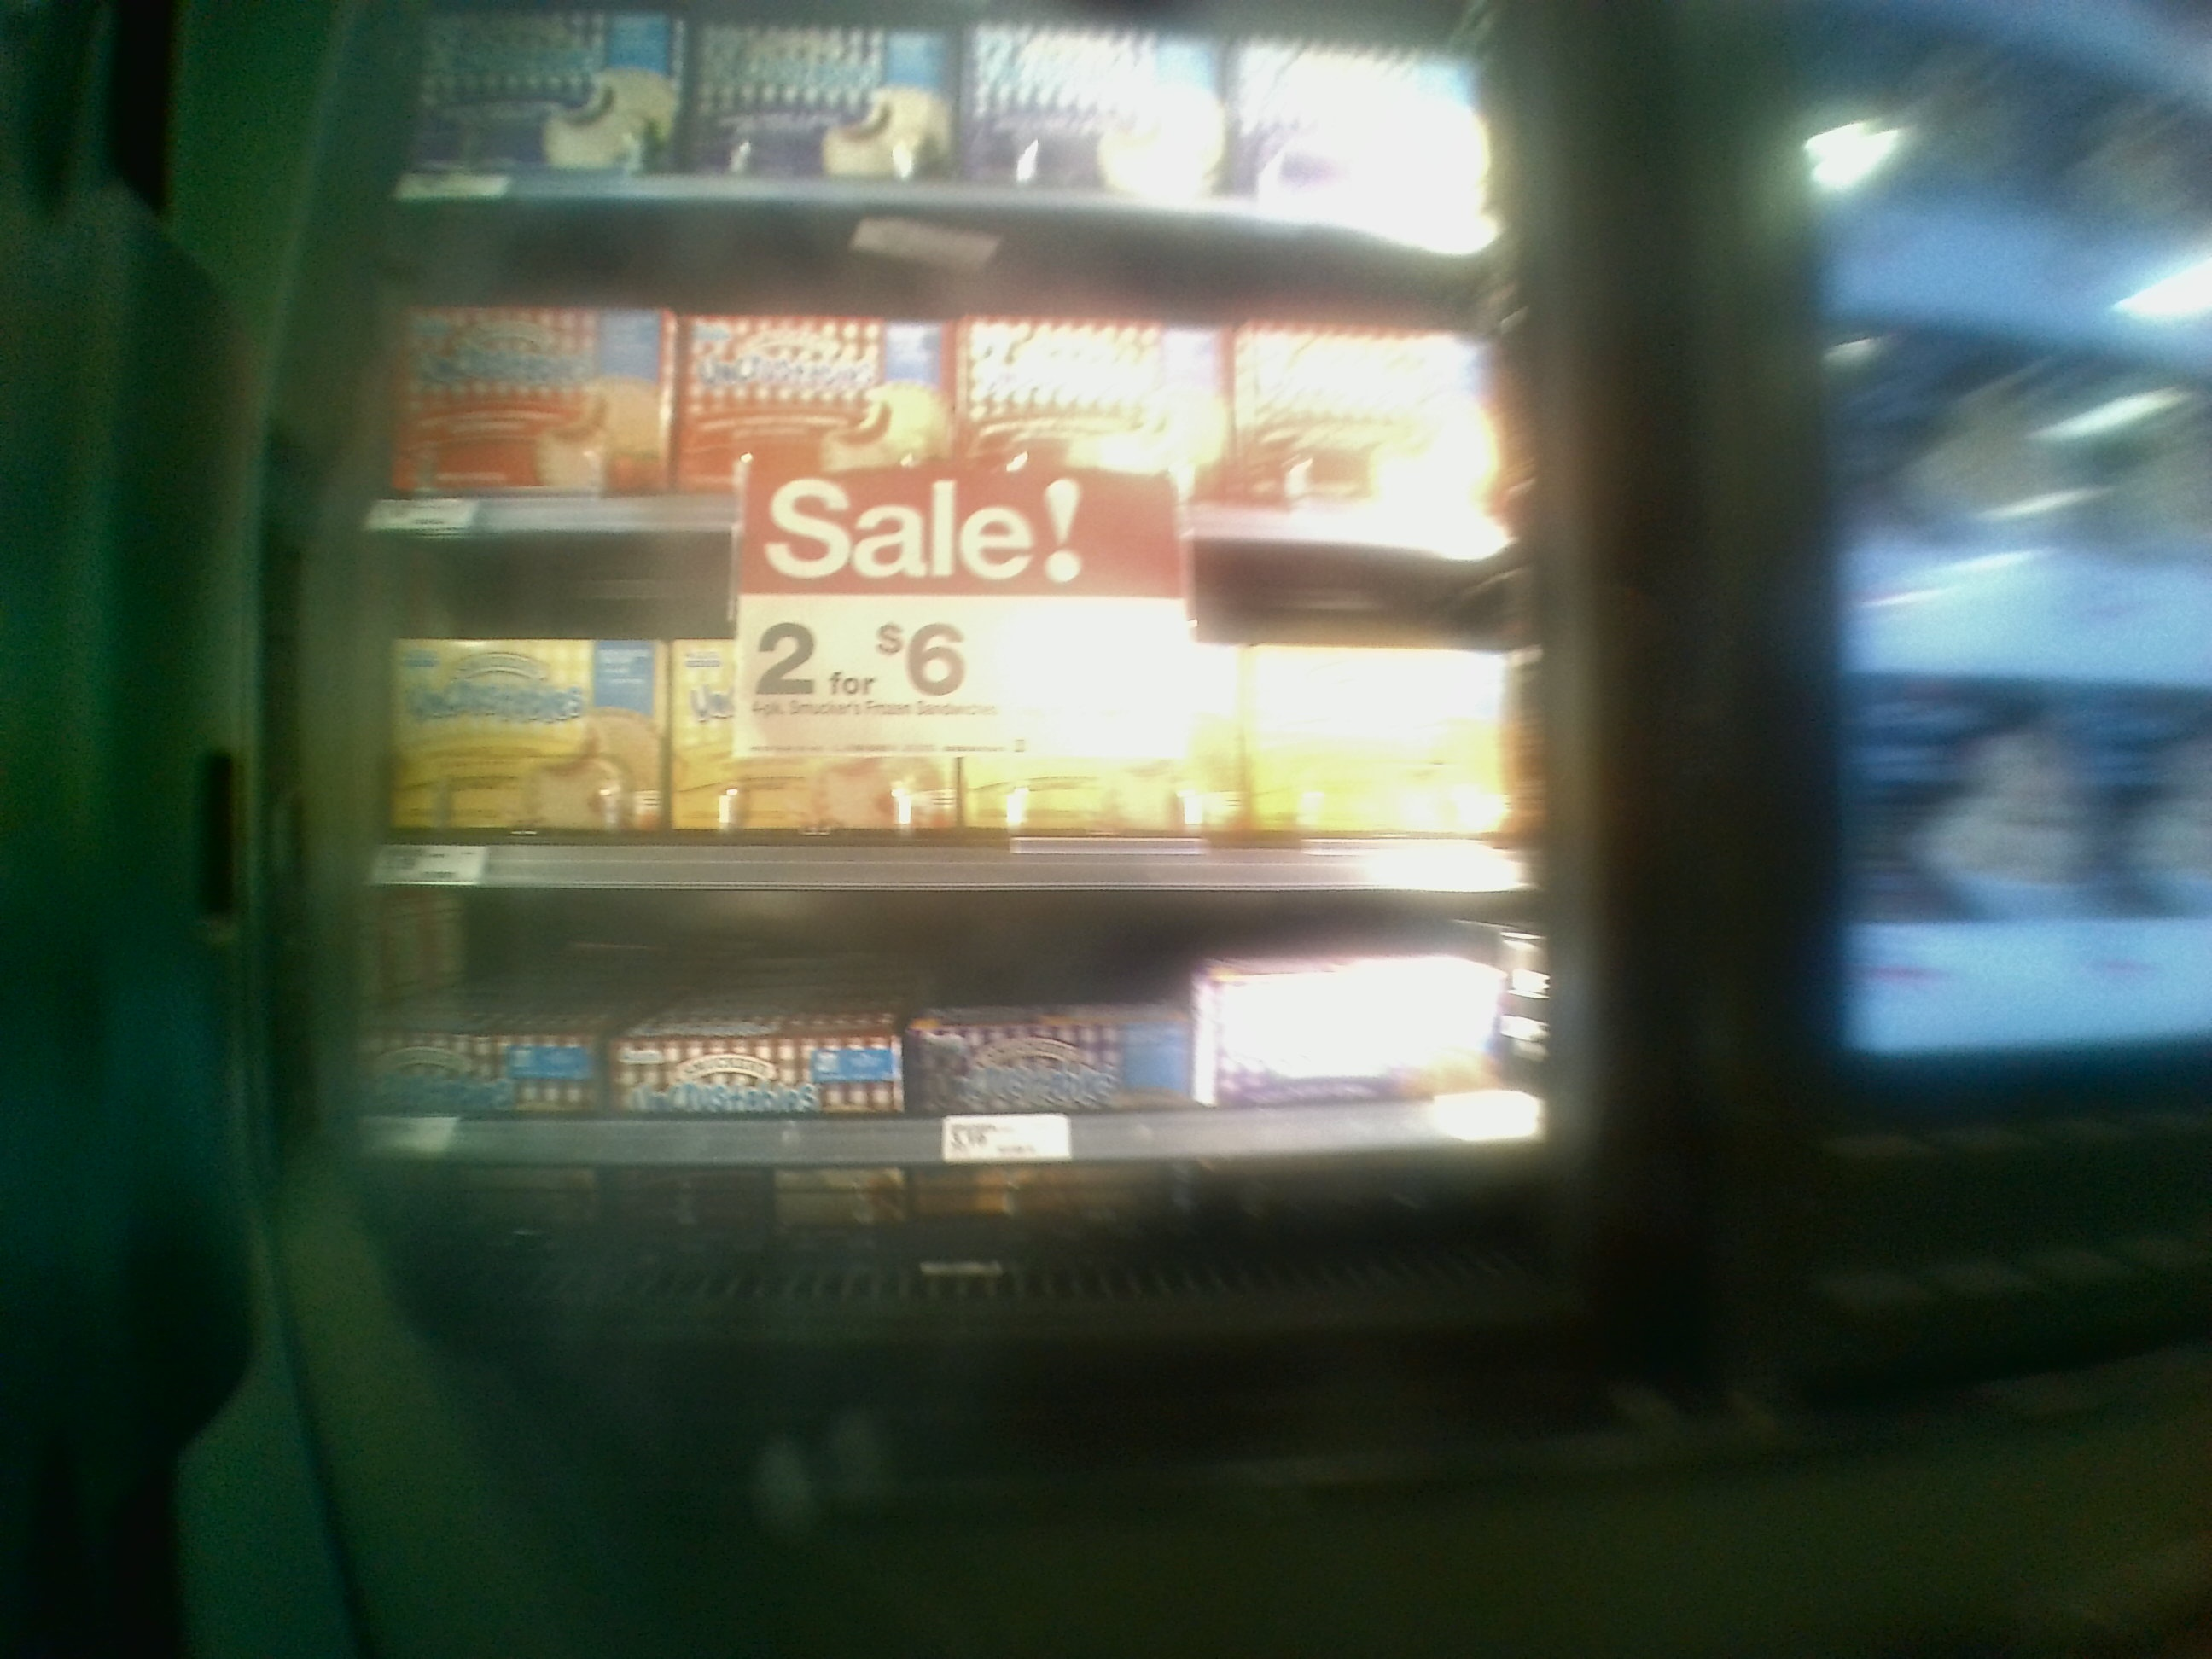shelf: (317, 894, 1575, 1288), (347, 192, 1559, 547), (329, 570, 1555, 892)
